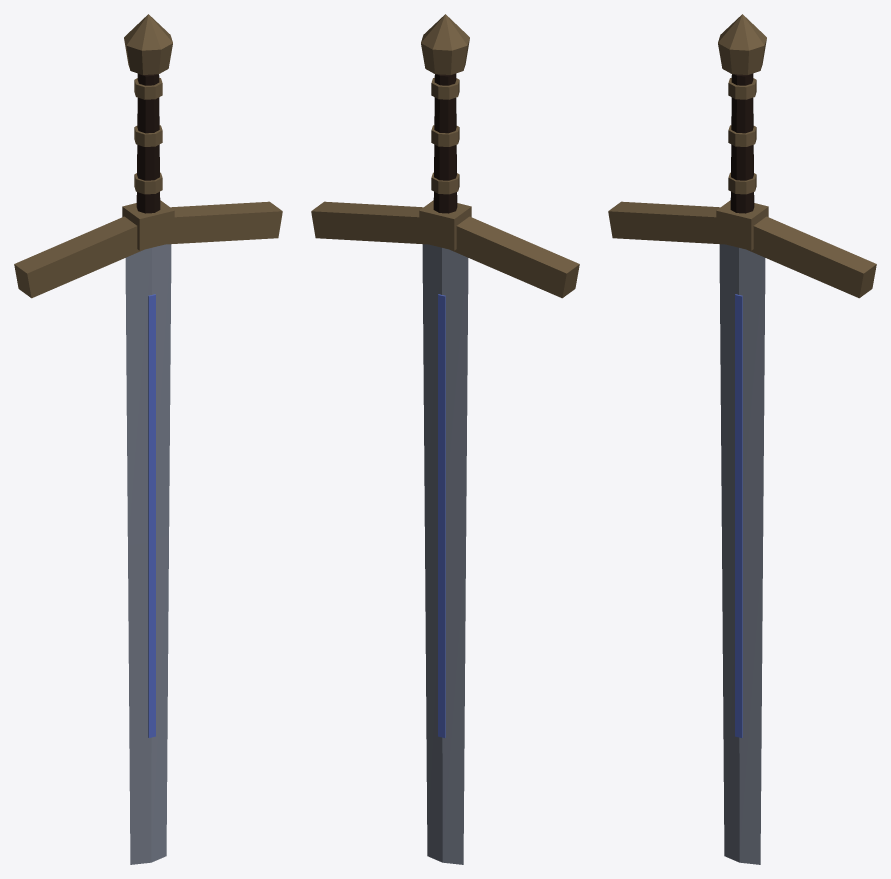
The model's file is oath-blade.glb.
3 renders of one model, left to right at view 1: azimuth 30°, elevation 25°; view 2: azimuth 150°, elevation 25°; view 3: azimuth 330°, elevation 25°, orthographic.
Parts seen in each view (by area): view 1: oath-blade; view 2: oath-blade; view 3: oath-blade.
Boxes of the visible parts, left/top/right/bottom form: oath-blade: left=14, top=14, right=282, bottom=864; oath-blade: left=311, top=14, right=579, bottom=864; oath-blade: left=608, top=14, right=876, bottom=864.
Bounding box in the file's own units: 0.5089 × 1.61 × 0.088.
